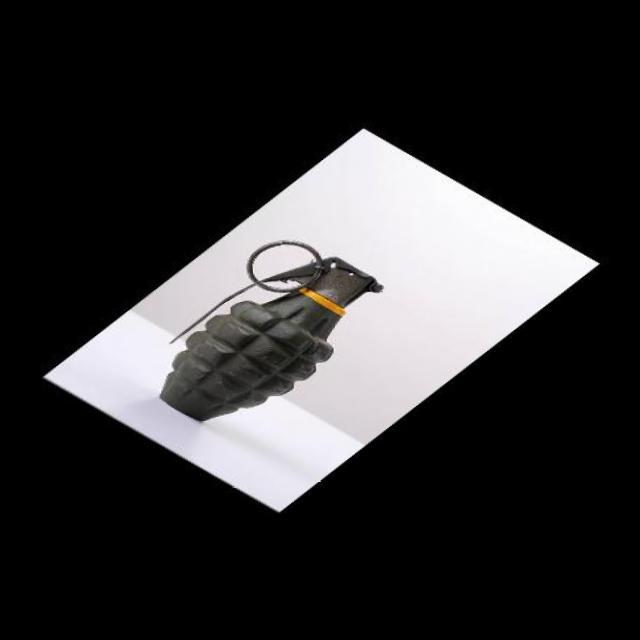grenade: (146, 227, 381, 438)
